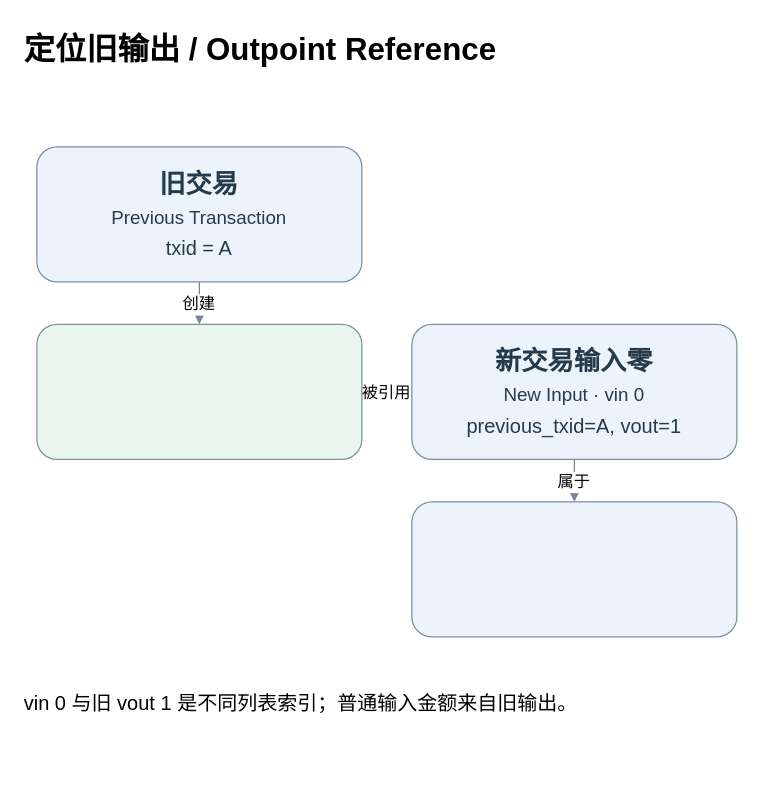
The diagram is 773 pixels wide and 791 high, and some of its shapes have lost their labels. Each missing label, with the centre of its shape:
新交易 Spending Transaction txid = B: pixel 574 569
旧输出一 Old Output · vout 1 A:1 · 金额与脚本: pixel 199 391
